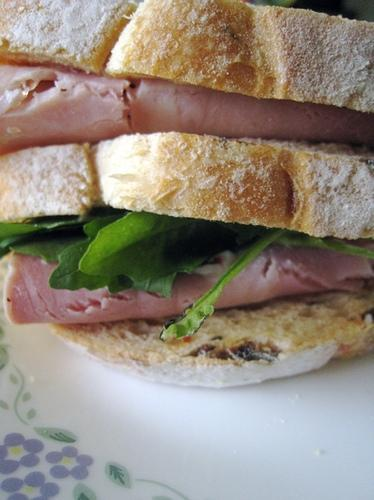lettuce: (160, 228, 298, 340), (49, 212, 214, 298), (78, 210, 260, 282), (0, 206, 126, 262), (272, 231, 372, 260)
